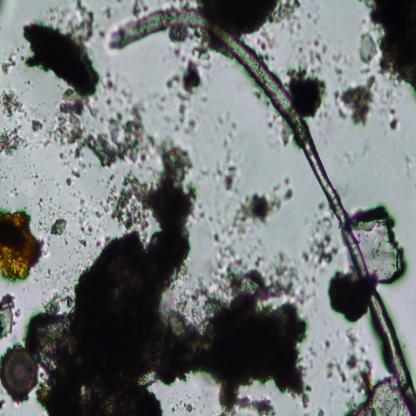Background material: (24, 140, 202, 416), (190, 242, 318, 416), (40, 72, 157, 170), (20, 0, 103, 99), (155, 29, 213, 139), (354, 0, 416, 91), (349, 198, 409, 290), (280, 37, 343, 120), (0, 211, 53, 284), (207, 0, 304, 39), (212, 189, 277, 240), (349, 368, 416, 416), (304, 197, 344, 270), (77, 173, 117, 240), (326, 270, 374, 325), (339, 72, 382, 128), (345, 334, 375, 394), (212, 148, 244, 193), (264, 111, 290, 148), (0, 123, 25, 157), (0, 297, 17, 340), (0, 91, 26, 118), (276, 174, 297, 204), (324, 361, 346, 385), (52, 210, 70, 238), (223, 117, 240, 146), (388, 100, 403, 132), (131, 0, 151, 20), (259, 39, 273, 63), (2, 52, 18, 71), (153, 90, 166, 110), (28, 116, 41, 132), (0, 0, 11, 17), (102, 4, 114, 19), (80, 236, 88, 249), (11, 188, 20, 197), (37, 198, 43, 211), (64, 177, 72, 186), (318, 409, 326, 416), (326, 339, 331, 350), (63, 238, 69, 246), (34, 173, 38, 179)
Diatom: (0, 348, 40, 400)
Microfibre: (109, 9, 416, 410)
